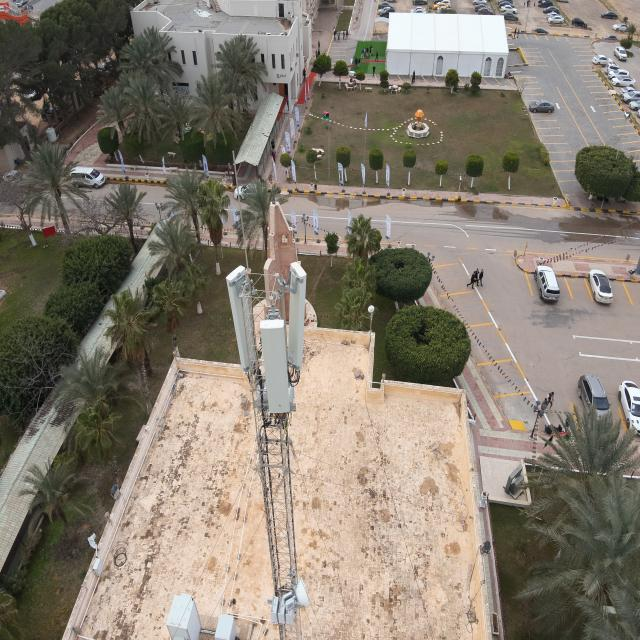antenna: (226, 263, 256, 372), (259, 318, 291, 417), (287, 264, 308, 372)
lighnig-rad: (229, 148, 251, 274)
microware-dish: (283, 577, 312, 612)
power-box: (267, 594, 294, 626)
radio-unit: (254, 377, 298, 408)
